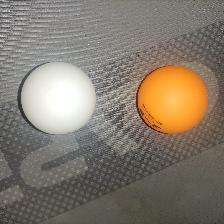WhiteBall: (20, 61, 96, 134)
YellowBall: (136, 64, 208, 134)
